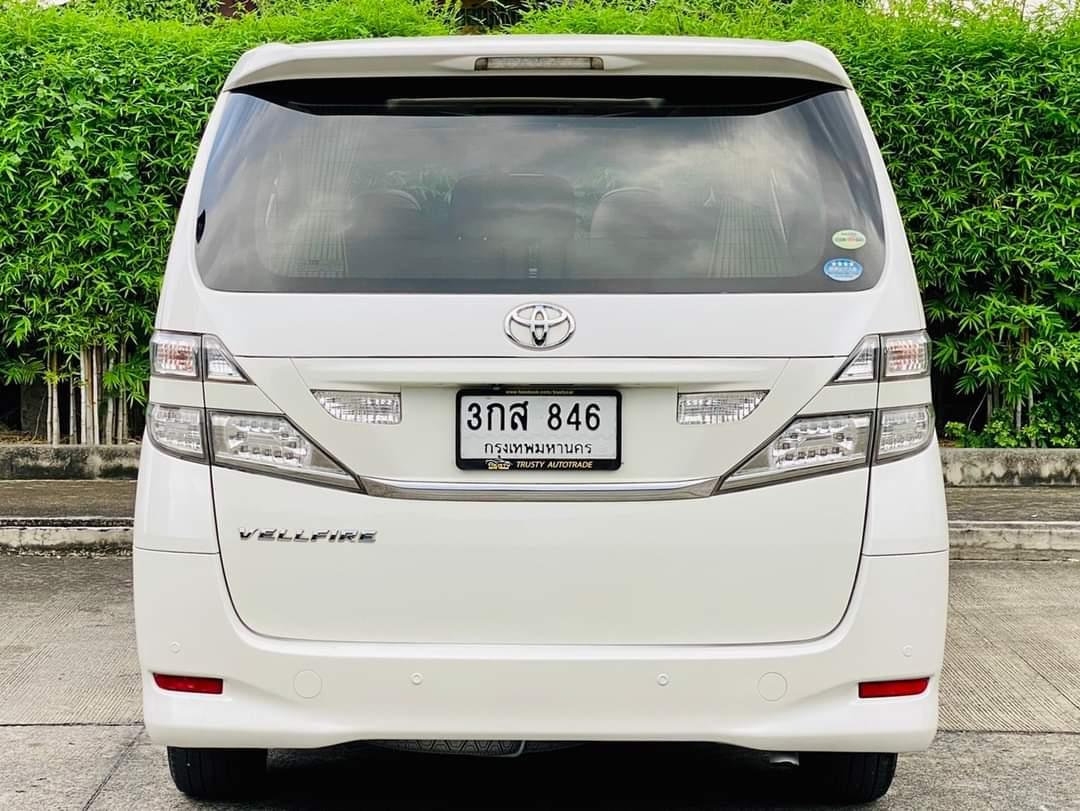license-plate: (454, 383, 624, 471)
